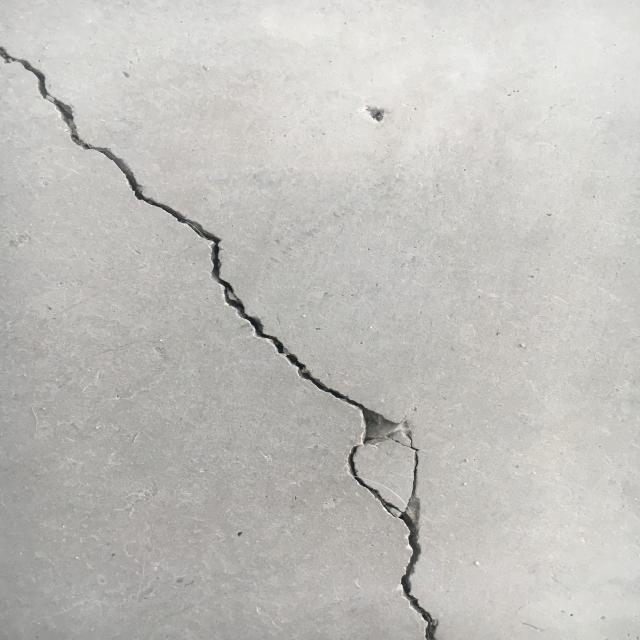Rachadura: (0, 38, 443, 640)
